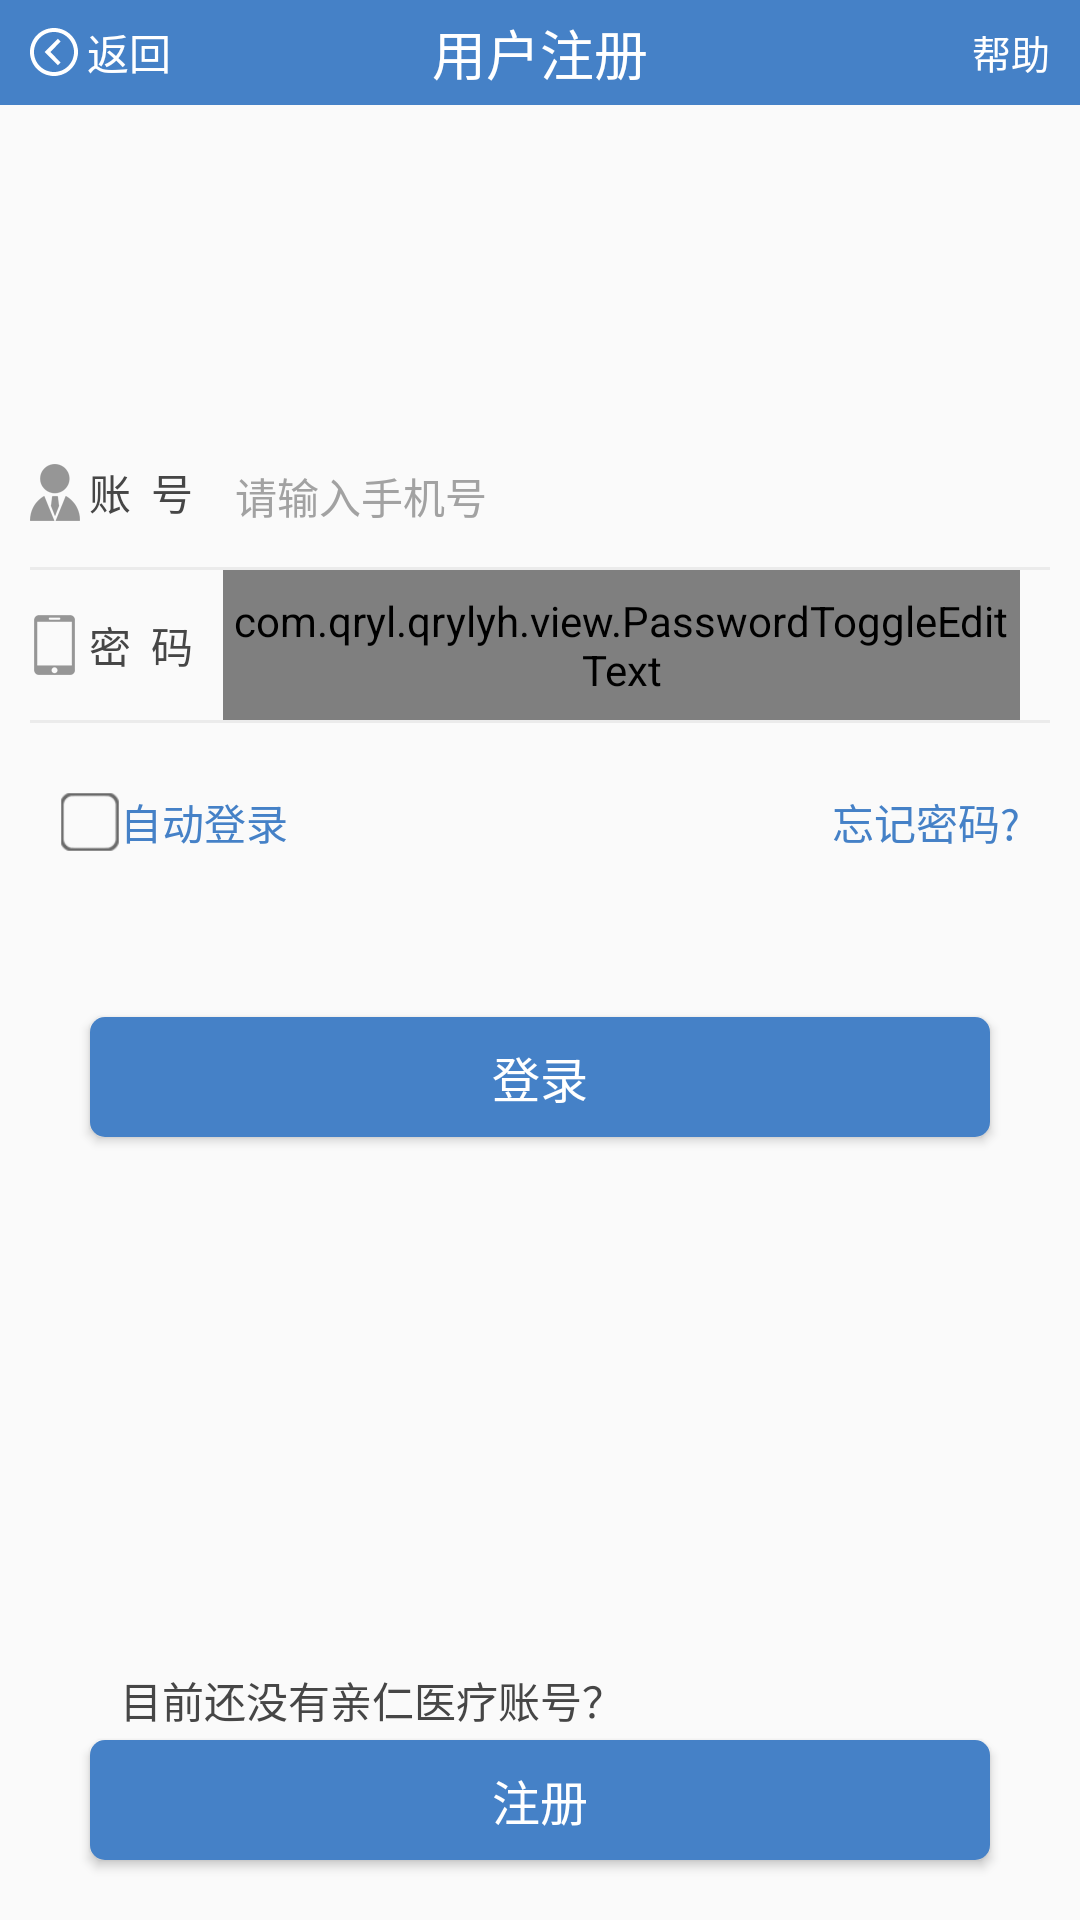

Named icons in this screenshot (1080px×1920px) and their bounding boxes, (x1, y1, x2, y2):
phone: (34, 615, 75, 675)
user: (30, 464, 80, 521)
